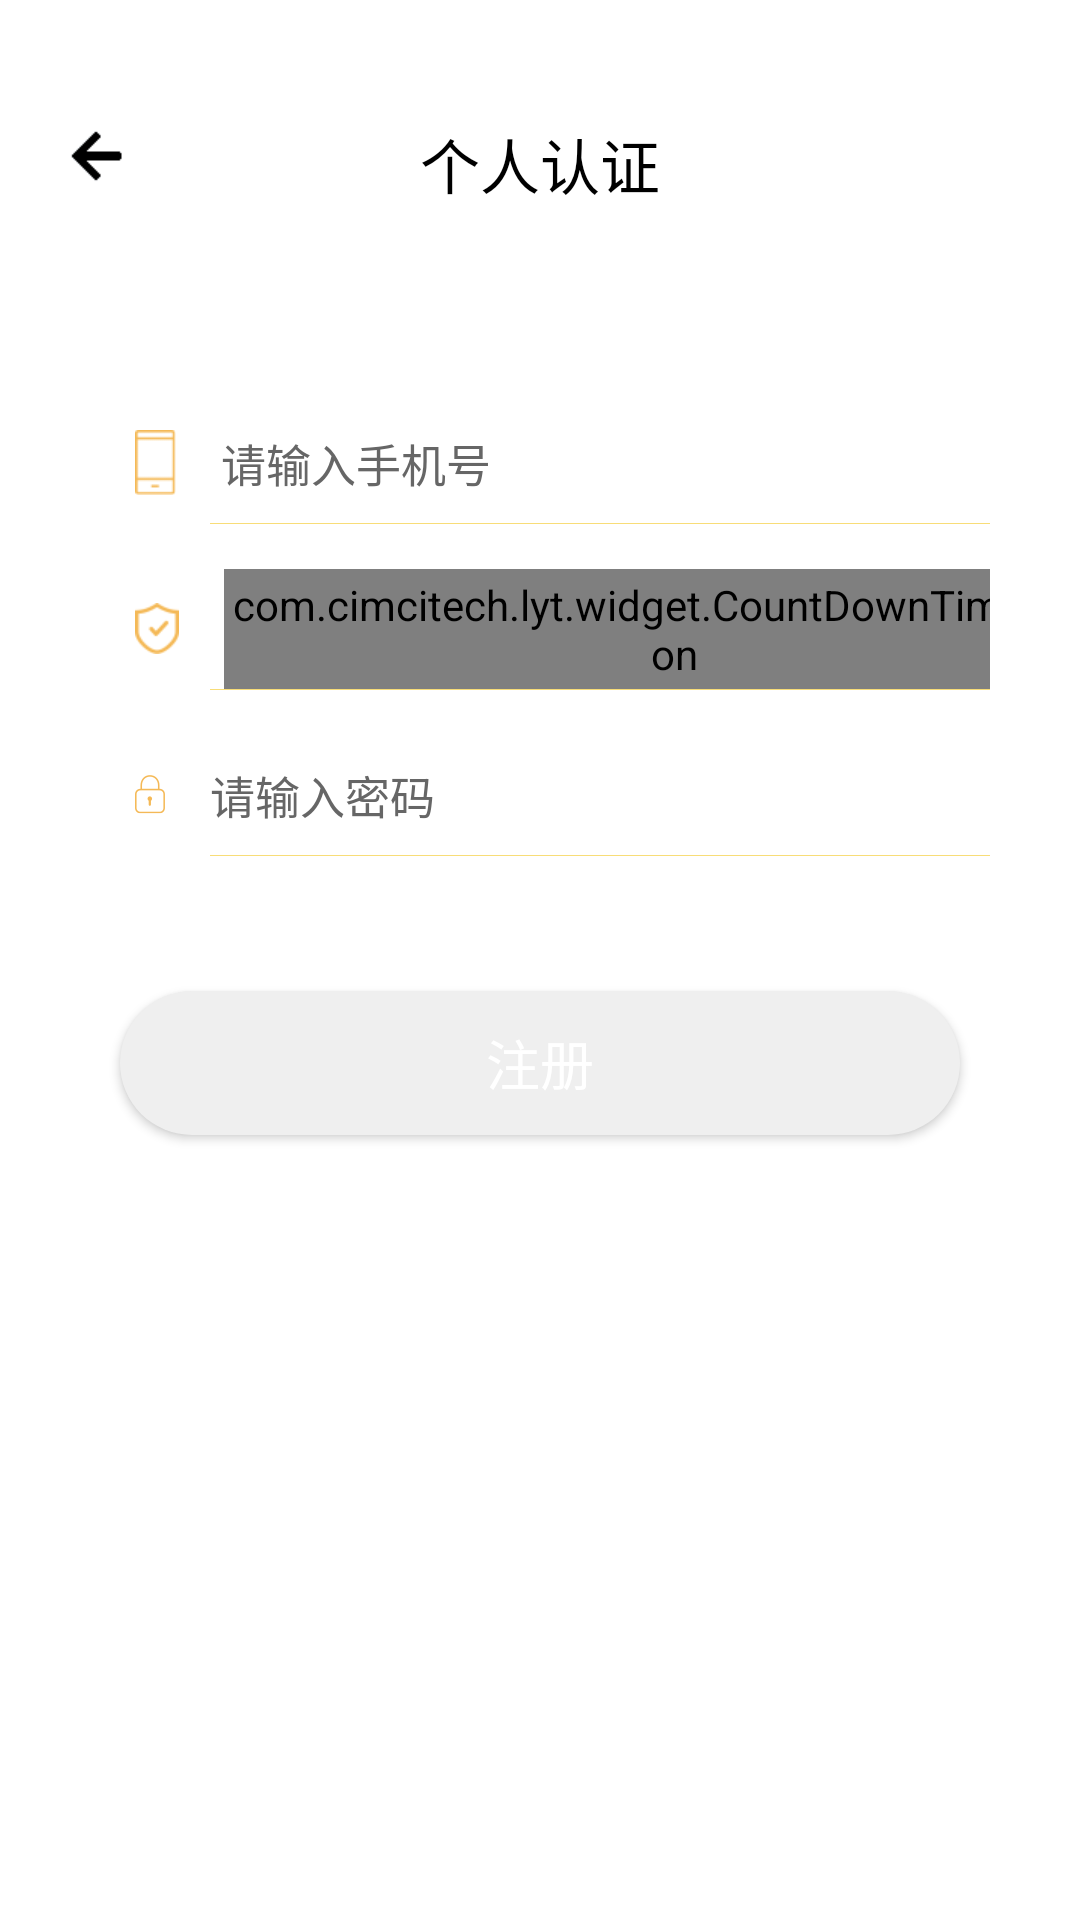

Icon bounding boxes for this 1080 x 1920 phone screenshot, format (left=x1, top=y1, right=x2, bottom=y2):
back: (left=71, top=131, right=122, bottom=181)
